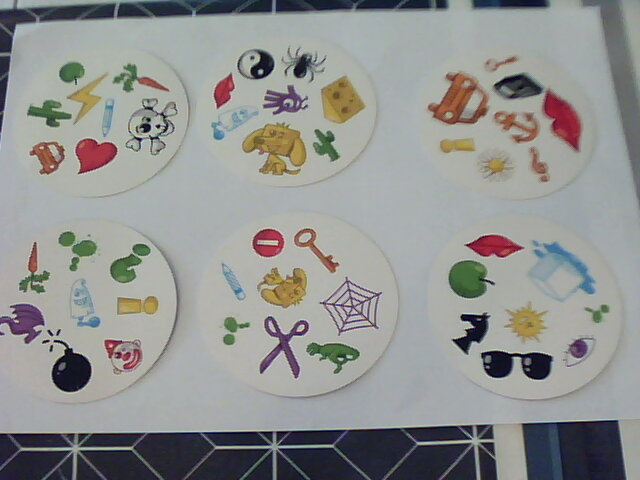ancre: (492, 105, 541, 146)
araignee: (280, 43, 330, 83)
bombe: (41, 327, 94, 393)
bouche: (540, 84, 588, 155), (463, 230, 527, 260), (210, 72, 237, 111)
cactus: (25, 97, 73, 131), (310, 125, 341, 165)
cadenas: (490, 70, 545, 102)
carotte: (111, 62, 173, 97), (18, 240, 52, 294)
cheval: (450, 310, 493, 356)
chien: (240, 122, 310, 180), (256, 266, 310, 310)
ciseau: (259, 315, 310, 381)
cle: (291, 225, 341, 277), (481, 49, 523, 74)
clown: (101, 337, 146, 376)
coeur: (73, 134, 119, 178)
crayon: (220, 261, 249, 303), (95, 96, 119, 140)
dinosore: (304, 338, 362, 377)
dooble: (261, 83, 311, 119)
dragon: (1, 298, 49, 345)
eclair: (67, 72, 111, 128)
fantome: (63, 277, 104, 332), (209, 104, 263, 143)
fleur: (472, 144, 517, 184)
fromage: (316, 72, 368, 127)
glacon: (526, 238, 601, 306)
lunette: (480, 347, 556, 385)
note: (525, 144, 553, 185)
oeuil: (560, 333, 598, 368)
point_exclamation: (114, 294, 160, 317), (438, 136, 477, 155)
point_interrogation: (108, 240, 154, 285)
pomme: (447, 258, 497, 301), (57, 61, 89, 86)
sens_interdit: (251, 226, 287, 260)
soleil: (501, 301, 554, 344)
tache: (56, 229, 101, 274), (220, 315, 252, 347), (581, 300, 615, 327)
tete_mort: (125, 98, 182, 157)
toile: (318, 275, 383, 335)
voiture: (427, 67, 492, 127), (27, 139, 69, 178)
ying_yang: (237, 46, 280, 82)
